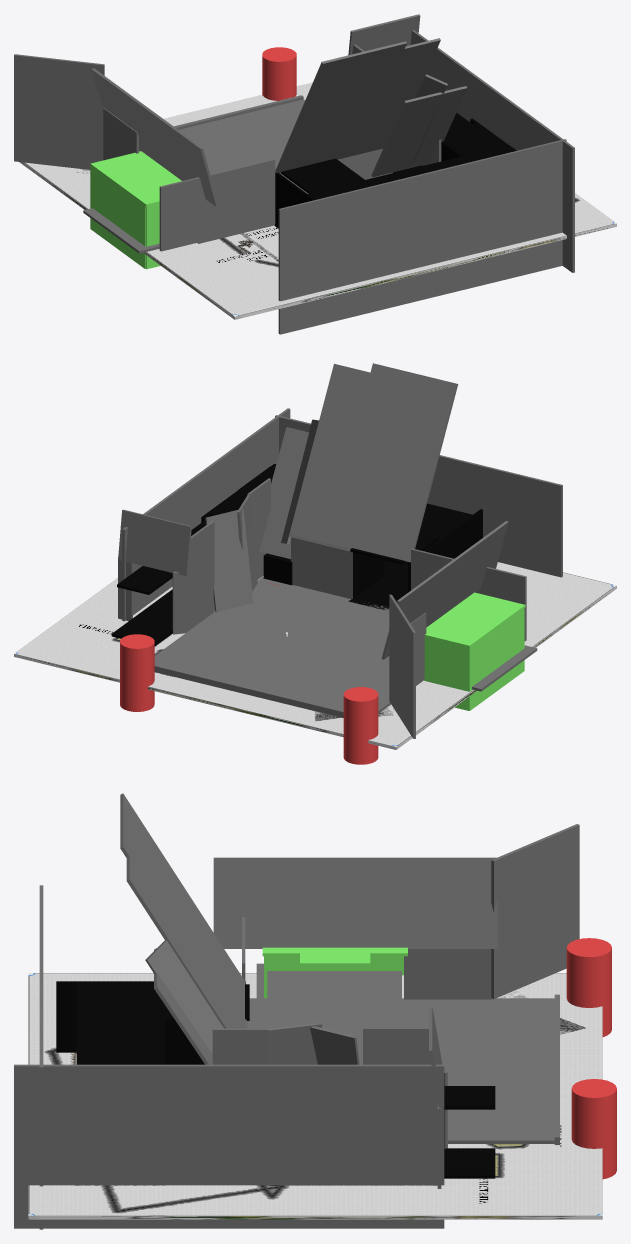
File: Blocked map v1 for alex.fbx
3 views of the same model, one above another, from view 1: azimuth 30°, elevation 25°; view 2: azimuth 150°, elevation 25°; view 3: azimuth 270°, elevation 25° (orthographic). The views are drawn at different scales.
Parts seen in each view (by area): view 1: Cube (31), Cube, Cube (9), Cube (22), Cube (11), Cube (30), Cube (1), Cube (8), Cube (26), Cube (7), Cube (19), Cube (27) (+13 smaller); view 2: Cube (1), Cube, Cube (22), Cube (7), Cube (31), Cube (30), Cube (8), Cube (12), Cube (16), Cube (29), Cube (26), Cube (19) (+24 smaller); view 3: Cube (30), Cube, Cube (8), Cube (1), Cube (9), Cube (33), Cube (22), Cube (7), Cube (10), Cube (3), Cylinder (1), Cylinder (+17 smaller).
Boxes of the visible parts, x1,y1,x2,y2 form: Cube (31): (278,139,566,334); Cube: (19,82,616,319); Cube (9): (14,54,104,169); Cube (22): (275,41,406,173); Cube (11): (159,159,275,251); Cube (30): (410,30,574,272); Cube (1): (139,99,308,243); Cube (8): (91,68,218,206); Cube (26): (371,86,467,177); Cube (7): (337,38,440,159); Cube (19): (90,166,145,268); Cube (27): (280,159,371,198); Cube (1): (154,576,424,713); Cube: (14,562,616,749); Cube (22): (351,363,458,562); Cube (7): (289,363,395,551); Cube (31): (275,415,562,577); Cube (30): (122,408,290,621); Cube (8): (381,521,508,659); Cube (12): (118,509,191,576); Cube (16): (205,509,253,611); Cube (29): (291,535,352,599); Cube (26): (259,427,308,559); Cube (19): (469,608,524,710); Cube (30): (14,1064,444,1228); Cube: (28,973,602,1219); Cube (8): (213,857,497,948); Cube (1): (247,998,558,1143); Cube (9): (491,824,579,999); Cube (33): (79,981,163,1064); Cube (22): (120,793,244,1017); Cube (7): (126,840,247,1028); Cube (10): (404,949,491,999); Cube (3): (256,963,401,1002); Cylinder (1): (571,1079,616,1179); Cylinder: (566,938,611,1036).
Bounding box in the file's own units: 16672 × 9405 × 17061.
6 materials, 1 textured.
